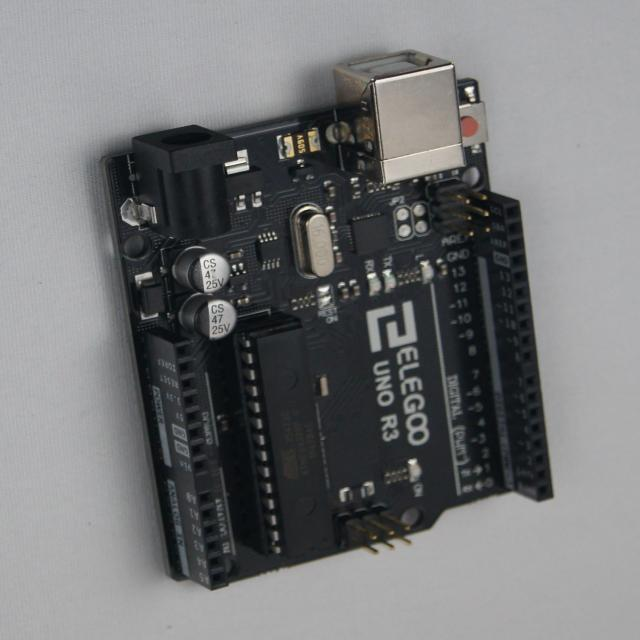Arduino Uno -Black-: (106, 52, 553, 589)
